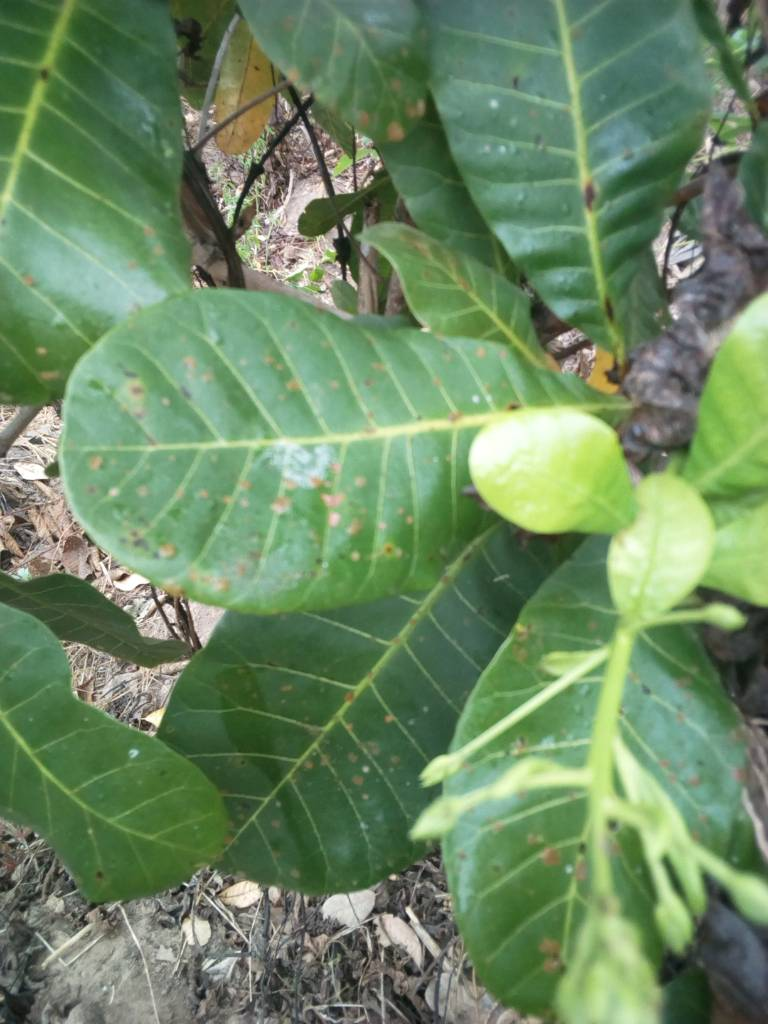Alternariose: (46, 277, 610, 616), (449, 580, 738, 1024), (207, 632, 452, 896), (255, 7, 454, 146)
